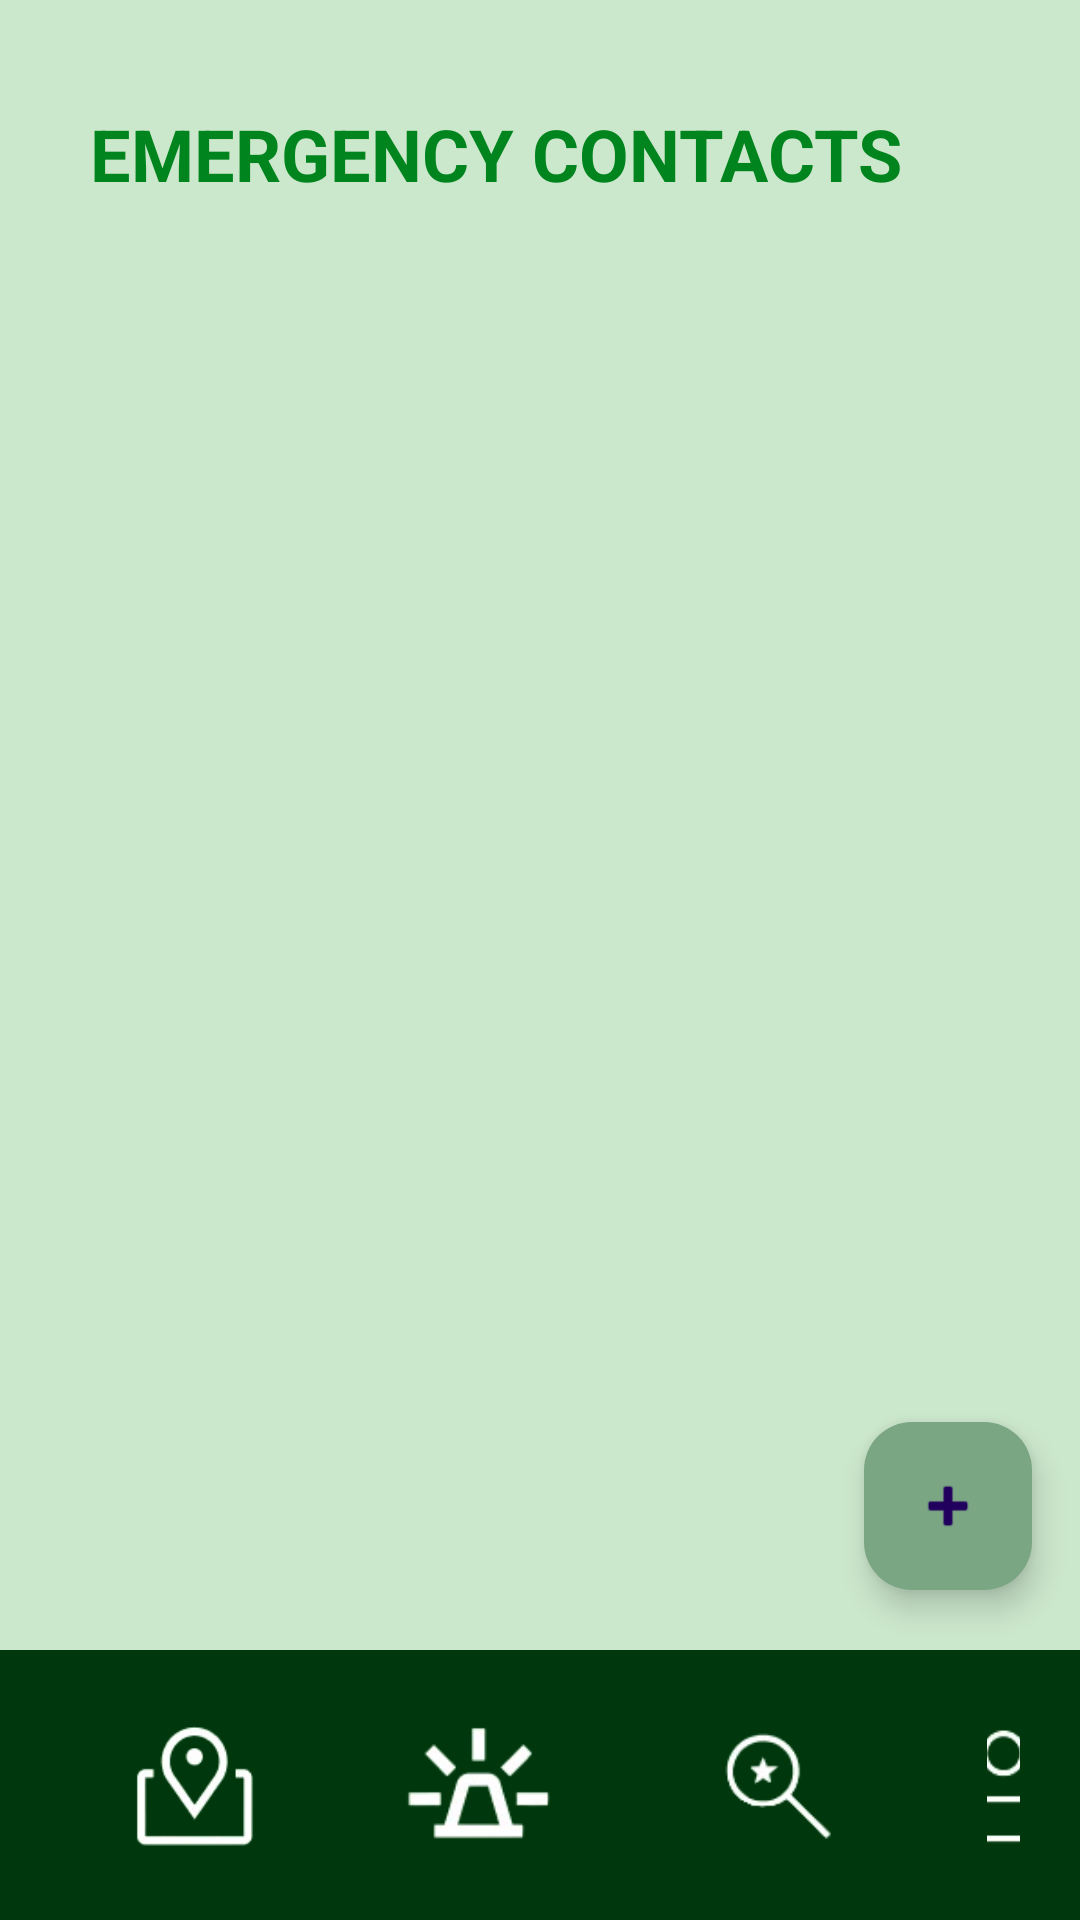

Named icons in this screenshot (1080×1920) and their bounding boxes, (x1,y1,x2,y2):
Add Contact: (864,1422,1032,1590)
Campus Map: (137,1727,253,1846)
Emergency: (408,1728,550,1839)
Saved: (725,1733,831,1839)
